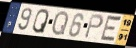6: (68, 12, 84, 38)
9: (17, 7, 32, 32)
E: (99, 14, 123, 44)
P: (83, 13, 105, 40)
Q: (51, 10, 70, 37), (32, 8, 50, 34)
